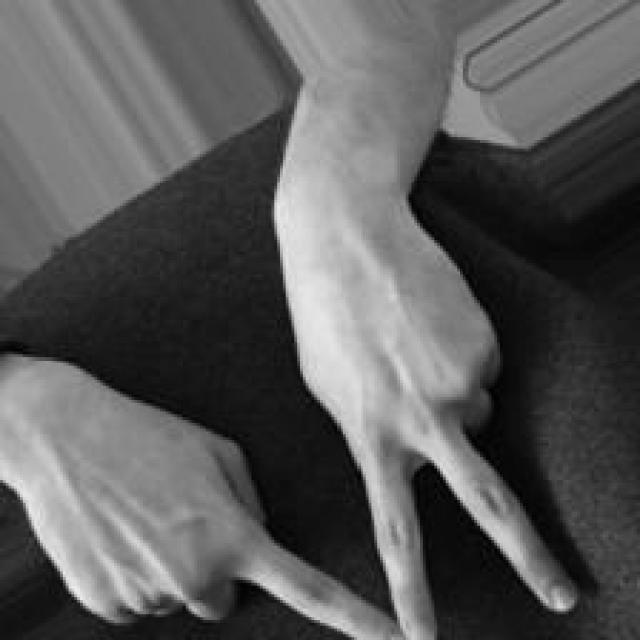N: (49, 223, 574, 640)
